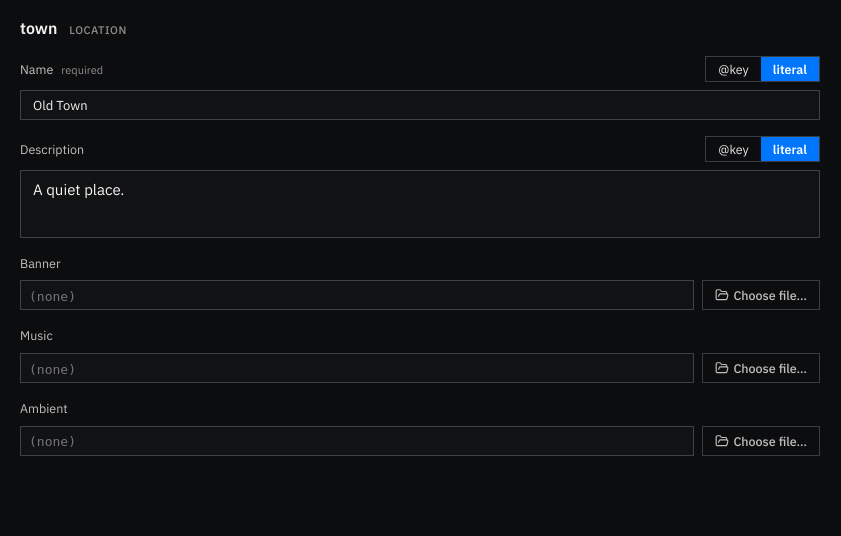
EntityForm author journeys › keeps edits available and offers a retry when an autosave fails
Step 1. Replace the text in the field showing "Old Town" with "My Town" → (420, 105), box left=20, top=90, right=820, bottom=120
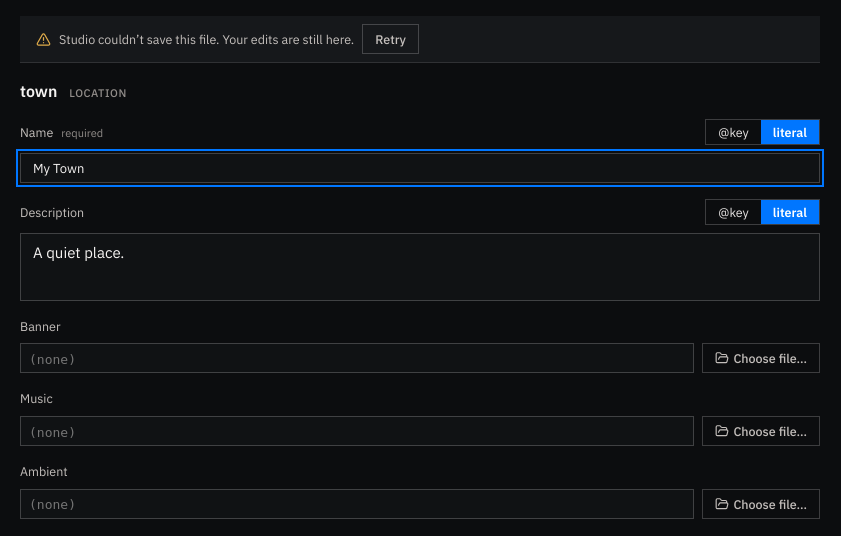
Expected: the text "Studio couldn’t save this file. Your edits are still here." is shown, left=59, top=30, right=354, bottom=48
Step 2. Click the button "Retry" → (391, 39), box left=362, top=24, right=419, bottom=54
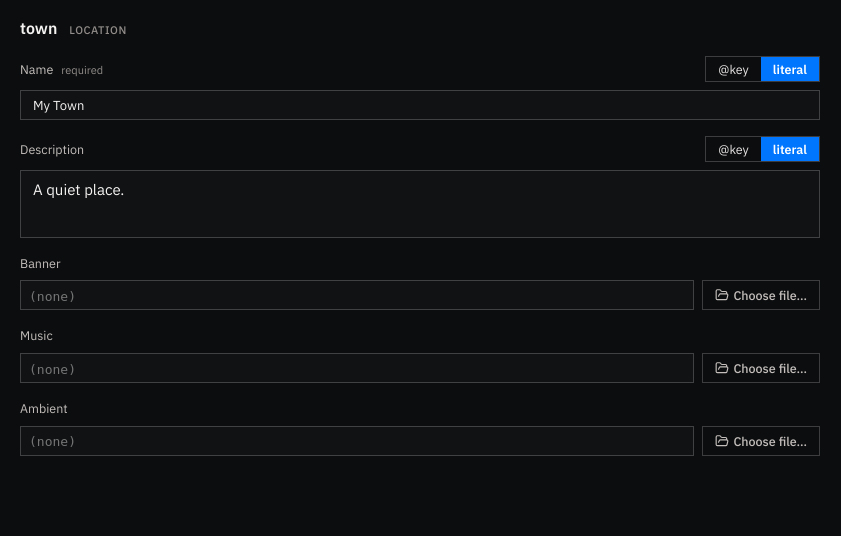
Expected: the text "couldn’t save this file" is gone
